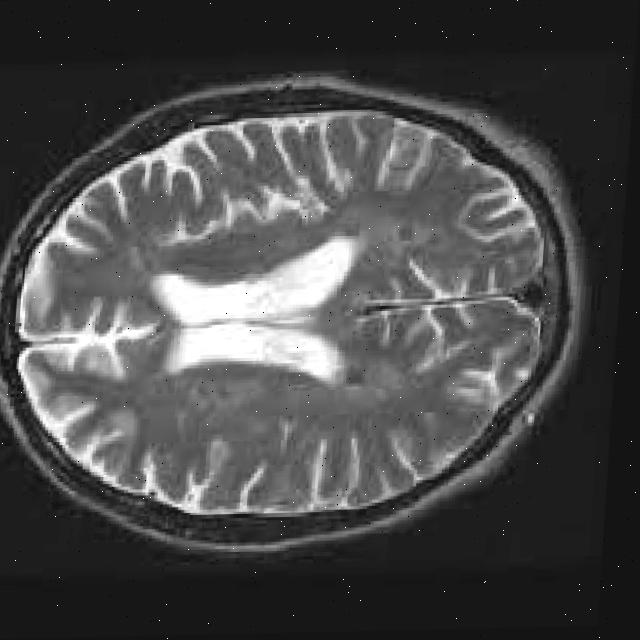NoTumor: (0, 101, 564, 529)
